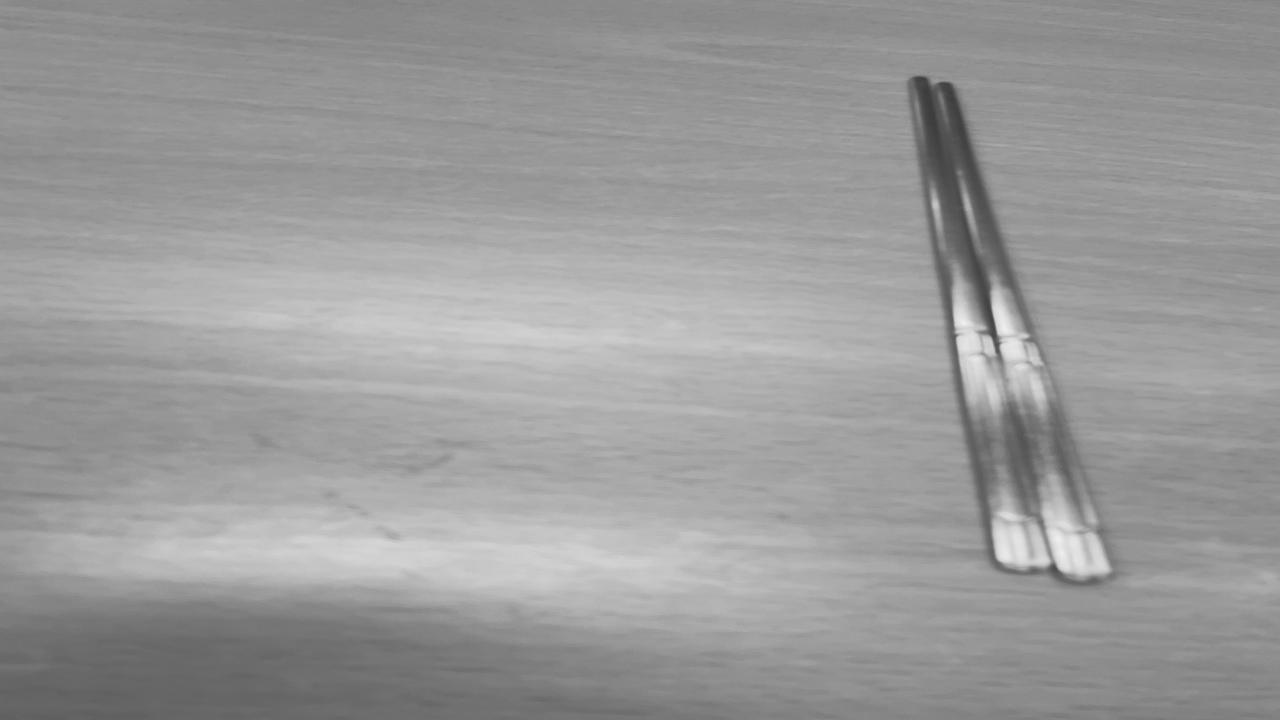chopstick: (912, 75, 1113, 578)
